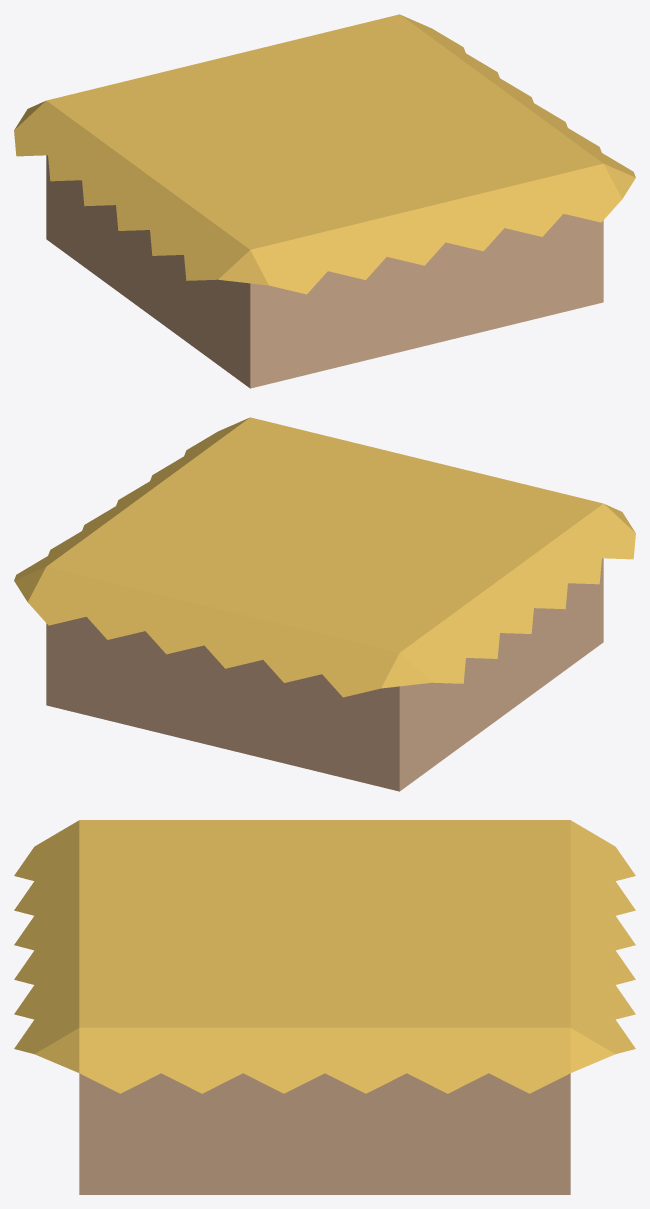
File: fall_platform.fbx
3 views of the same model, one above another, from view 1: azimuth 30°, elevation 25°; view 2: azimuth 150°, elevation 25°; view 3: azimuth 270°, elevation 25° (orthographic). The views are drawn at different scales.
Parts seen in each view (by area): view 1: block; view 2: block; view 3: block.
Part boxes in pixels (x1,y1,x2,y2): block: [14, 14, 635, 388]; block: [14, 417, 635, 791]; block: [14, 820, 635, 1194].
Size of the model in its own units: 444 by 132 by 444.
